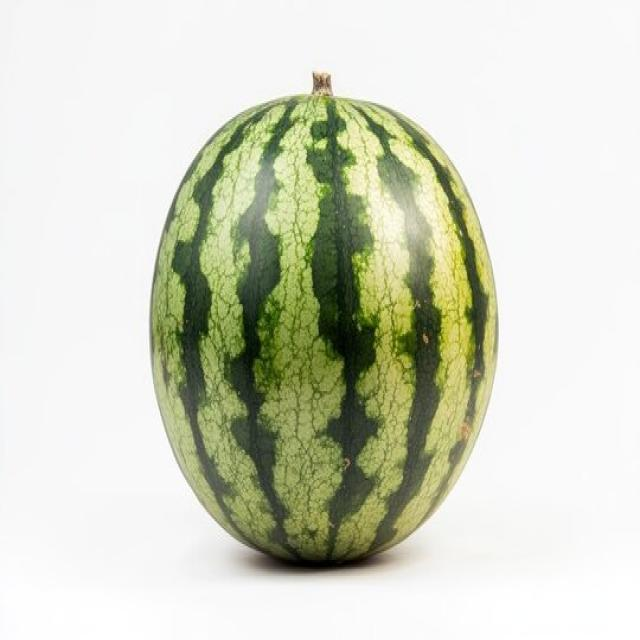Watermelon: (153, 76, 490, 559)
